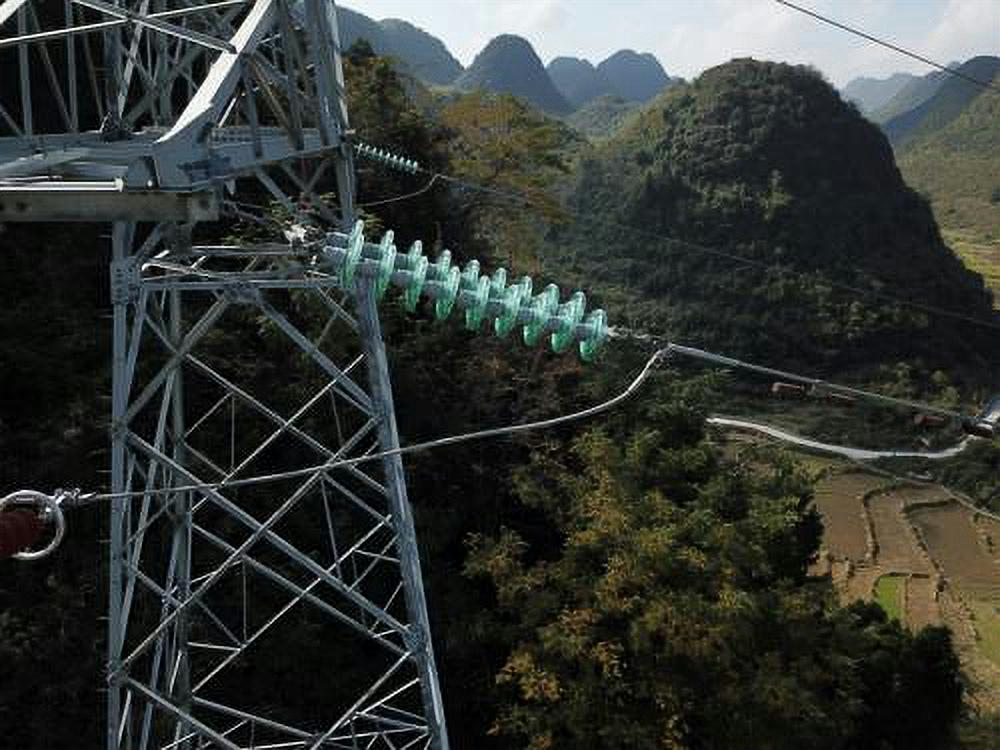insulator: (333, 215, 611, 365), (352, 138, 422, 179)
